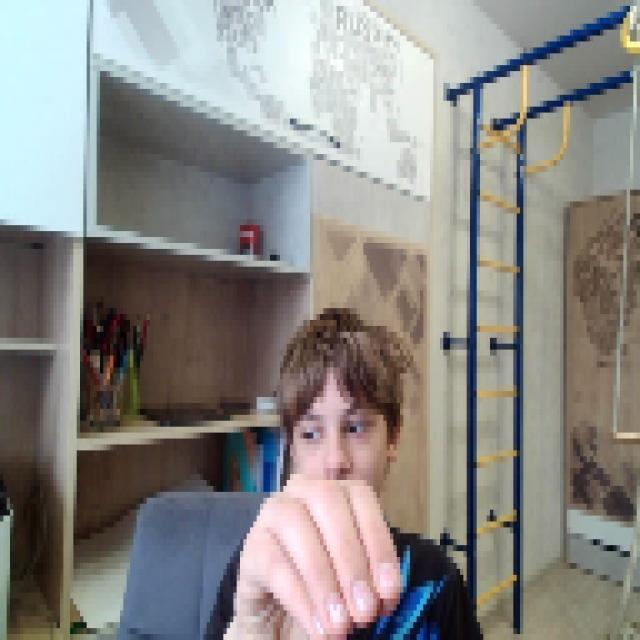left_click: (223, 462, 400, 634)
